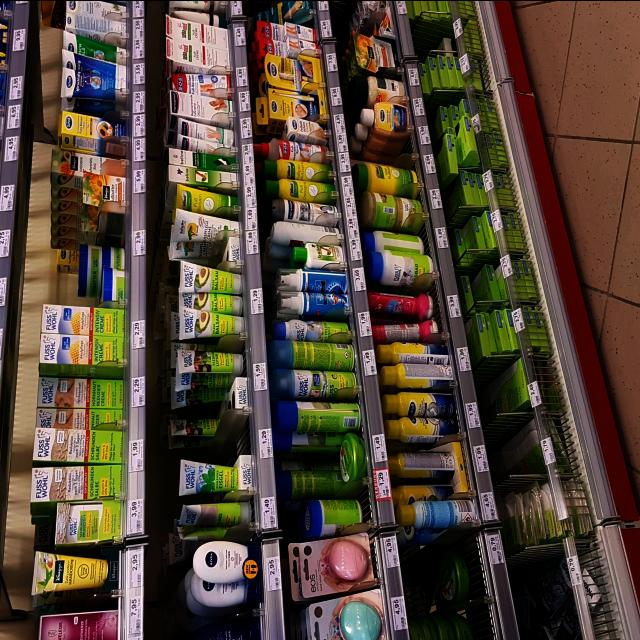empty_space: (466, 521, 488, 635), (199, 428, 252, 462), (403, 563, 437, 606), (52, 274, 80, 302), (423, 31, 452, 53)
